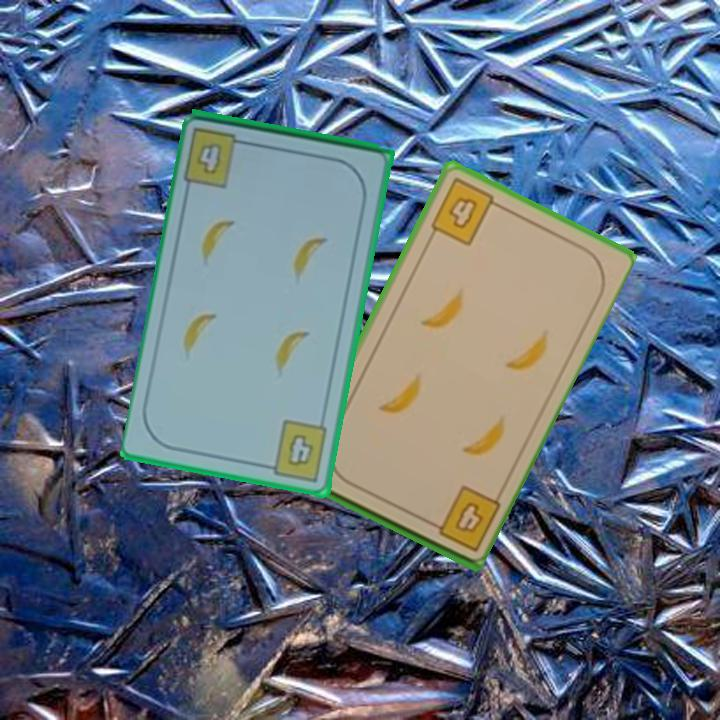4b: (422, 481, 503, 555), (426, 174, 505, 249), (260, 416, 331, 485), (181, 124, 254, 191)
